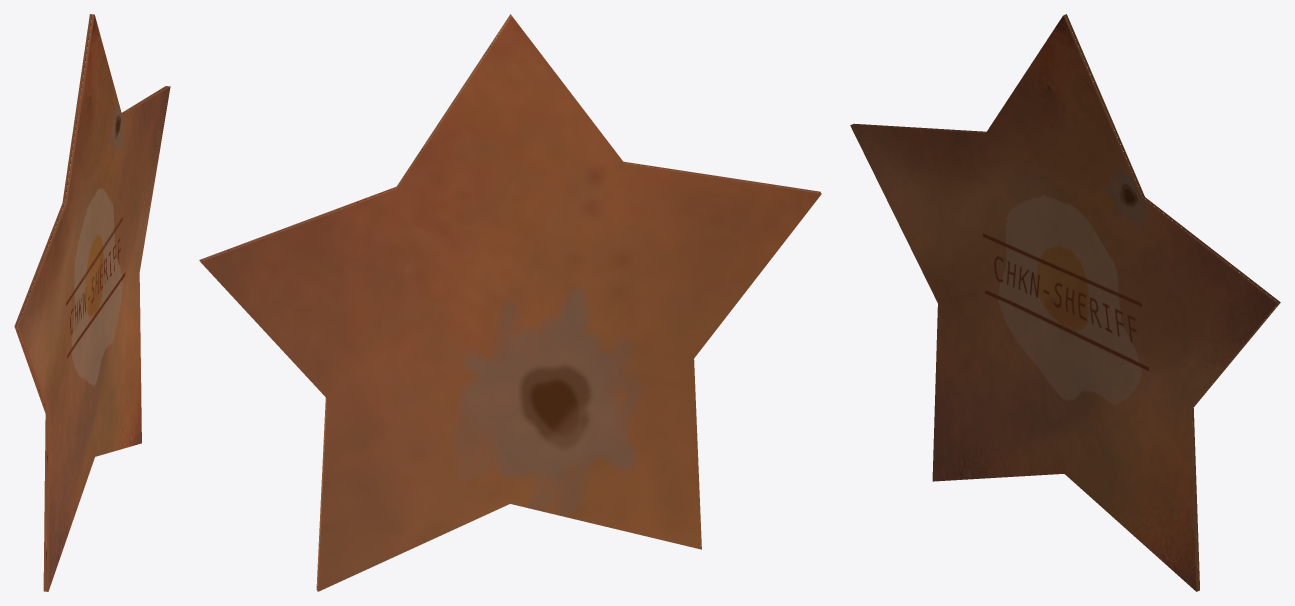
Rendered from v_dispar.fbx.
3 renders of one model, left to right at view 1: azimuth 30°, elevation 25°; view 2: azimuth 150°, elevation 25°; view 3: azimuth 270°, elevation 25°, orthographic. The views are drawn at different scales.
Parts seen in each view (by area): view 1: Cylinder; view 2: Cylinder; view 3: Cylinder.
Part boxes in pixels (x1,y1,x2,y2): Cylinder: (14,14,170,591); Cylinder: (199,14,821,591); Cylinder: (850,14,1280,591).
Bounding box in the file's own units: 2.3 × 3.07 × 2.3.
1 material, 1 textured.
